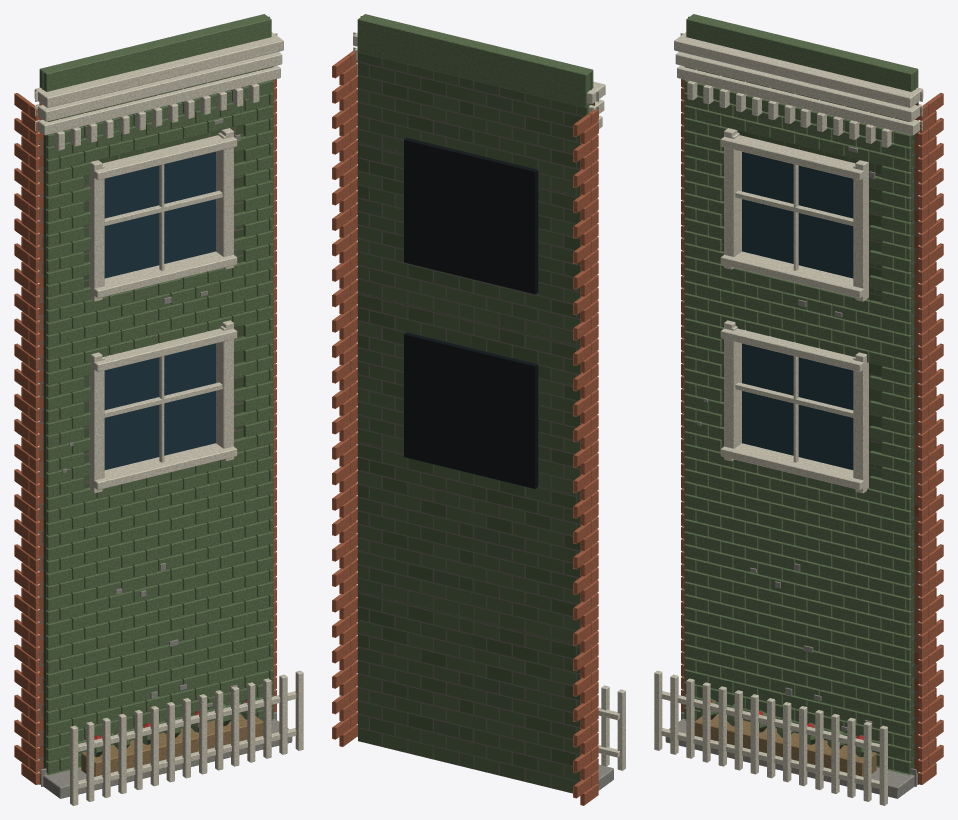
File: VICT26_lod0.glb
The picture shows the model from 3 angles, left to right: view 1: azimuth 30°, elevation 25°; view 2: azimuth 150°, elevation 25°; view 3: azimuth 330°, elevation 25°; orthographic projection.
Visible parts, largest first — view 1: VICT26_FRONT_LOD0; view 2: VICT26_FRONT_LOD0; view 3: VICT26_FRONT_LOD0.
Boxes of the visible parts, left/top/right/bottom form: VICT26_FRONT_LOD0: left=14, top=14, right=303, bottom=805; VICT26_FRONT_LOD0: left=332, top=14, right=625, bottom=805; VICT26_FRONT_LOD0: left=654, top=14, right=943, bottom=805.
Bounding box in the file's own units: 3.44 × 9.66 × 1.32.
15 materials, 13 textured.
